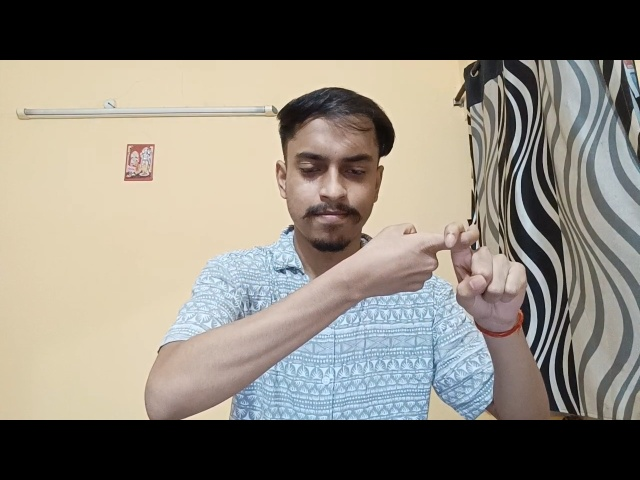Friend: (362, 209, 535, 339)
